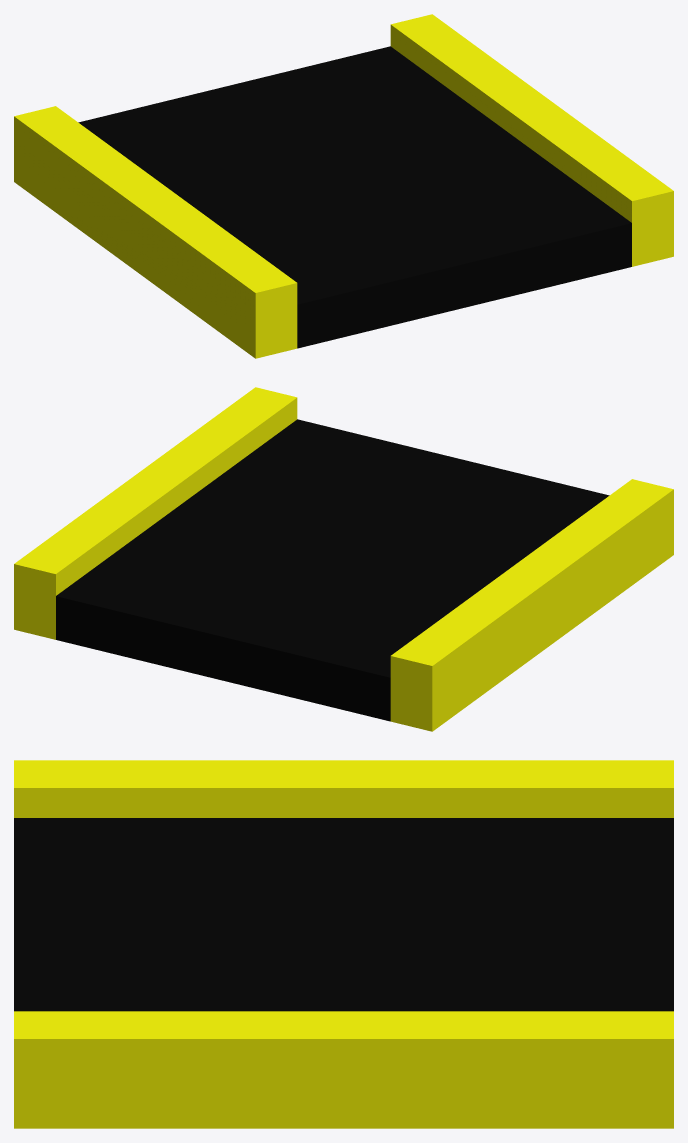
Rendered from conveyor.obj.
3 renders of one model, top to bottom at view 1: azimuth 30°, elevation 25°; view 2: azimuth 150°, elevation 25°; view 3: azimuth 270°, elevation 25°, orthographic. The views are drawn at different scales.
Visible parts, largest first — view 1: base; view 2: base; view 3: base.
Boxes of the visible parts, left/top/right/bottom form: base: left=14, top=14, right=673, bottom=358; base: left=14, top=387, right=673, bottom=731; base: left=14, top=760, right=673, bottom=1128.
Size of the model in its own units: 1 by 0.15 by 1.
